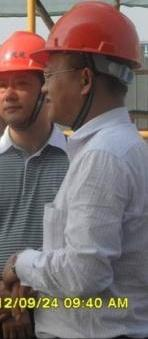hard-hat: (0, 29, 49, 76)
